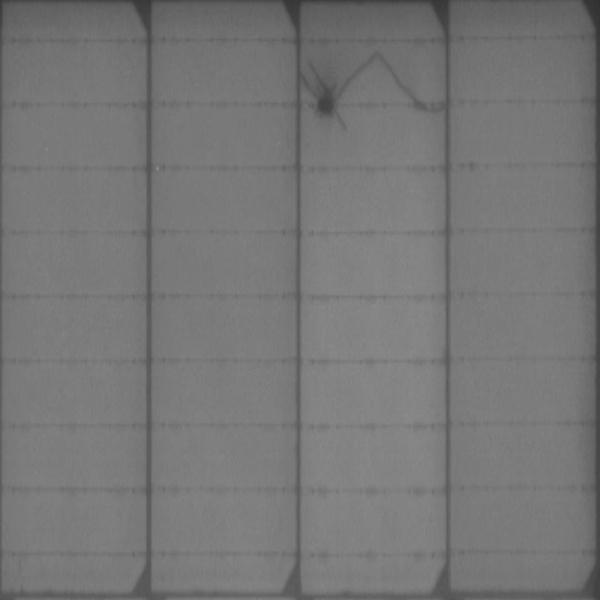broken: (301, 45, 430, 132)
